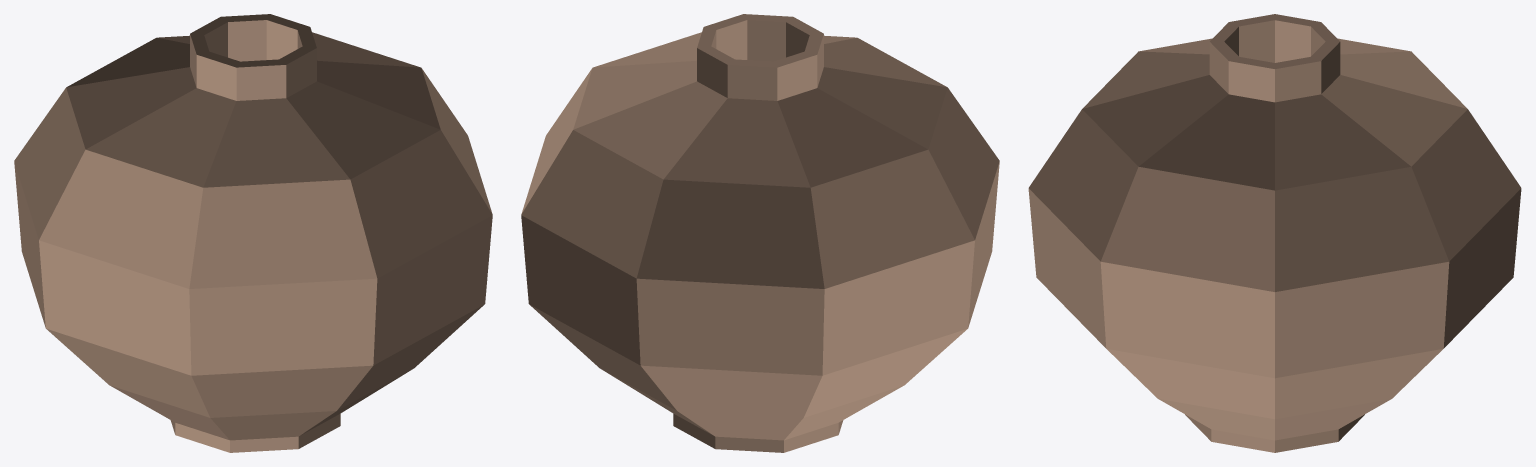
The model's file is Vase 15.fbx.
3 renders of one model, left to right at view 1: azimuth 30°, elevation 25°; view 2: azimuth 150°, elevation 25°; view 3: azimuth 270°, elevation 25°, orthographic.
Parts seen in each view (by area): view 1: Node 0; view 2: Node 0; view 3: Node 0.
Boxes of the visible parts, x1=… form: Node 0: x1=14, y1=14, x2=492, y2=452; Node 0: x1=521, y1=14, x2=999, y2=452; Node 0: x1=1028, y1=14, x2=1521, y2=452.
Bounding box in the file's own units: 0.3056 × 0.2554 × 0.3056.
